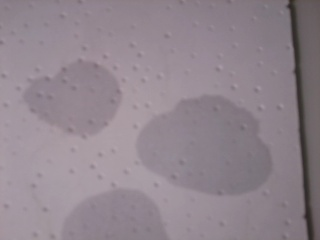Water_detected: (150, 107, 234, 185), (42, 74, 107, 132)
